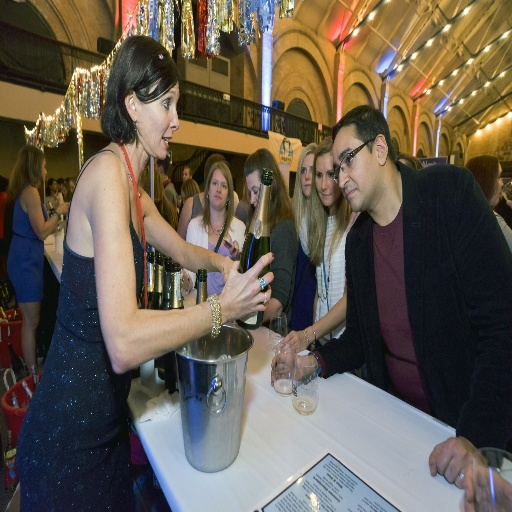hand: (427, 429, 501, 496), (221, 250, 273, 320), (462, 461, 511, 511), (270, 351, 302, 385), (279, 329, 307, 352), (222, 237, 240, 261), (221, 256, 234, 283), (179, 270, 189, 290), (56, 202, 68, 214), (53, 189, 58, 201), (505, 199, 511, 209), (64, 217, 67, 230)
